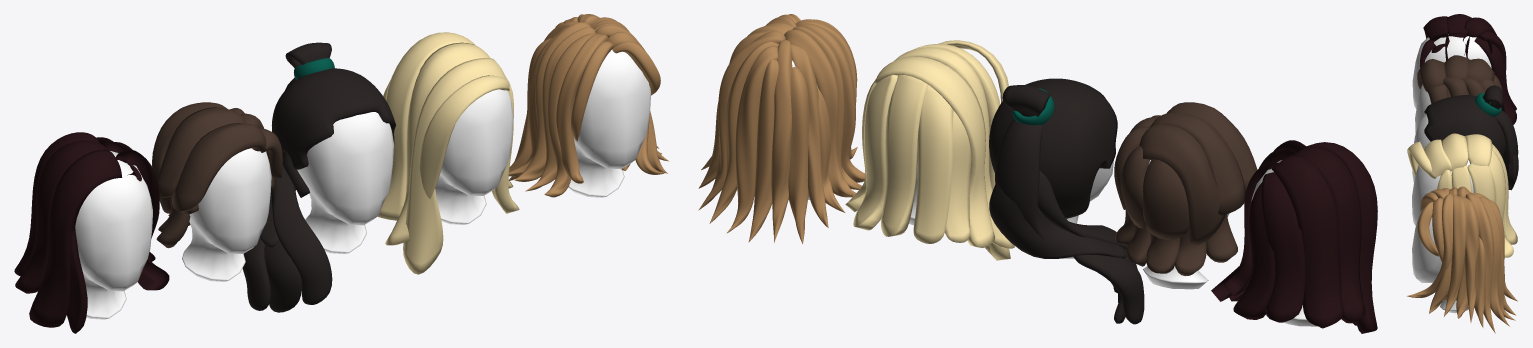
The model's file is haircut.glb.
The picture shows the model from 3 angles, left to right: view 1: azimuth 30°, elevation 25°; view 2: azimuth 150°, elevation 25°; view 3: azimuth 270°, elevation 25°; orthographic projection. The views are drawn at different scales.
Visible parts, largest first — view 1: Sally_head.003, Sally_head.001, Sally_head.002, Head1 Dummy, Sally_head.004, Gabriela Ekaireb_Hair, Head2_HairBand01, KW_HairBand01, KW_HairBand05, GE_HairBand05, CH_HairBand01, KW_HairBand03 (+24 smaller); view 2: Gabriela Ekaireb_Hair, Head2_HairBand06, KW_HairBand05, KW_HairBand09, KW_HairBand10, CH_HairBand04, Head2_HairBand07, Head2_HairBand02, GE_HairBand03, GE_HairBand02, Head1_HairStrand.009, KW_HairBand08 (+36 smaller); view 3: Gabriela Ekaireb_Hair, Head1_HairStrand.006, Sally_head.001, Head1_HairStrand.007, Head1_HairStrand.008, Head1 Dummy, Head1_HairStrand.005, Head1_HairStrand.016, Head2_HairBand08, KW_HairBand08, Sally_head.004, Head1_HairStrand.015 (+38 smaller).
Part boxes in pixels (bbox=[...]): Sally_head.003: bbox=[297, 112, 393, 253]; Sally_head.001: bbox=[75, 151, 152, 319]; Sally_head.002: bbox=[182, 148, 271, 281]; Head1 Dummy: bbox=[568, 49, 650, 197]; Sally_head.004: bbox=[435, 89, 513, 224]; Gabriela Ekaireb_Hair: bbox=[271, 68, 395, 197]; Head2_HairBand01: bbox=[29, 149, 122, 327]; KW_HairBand01: bbox=[403, 58, 509, 274]; KW_HairBand05: bbox=[377, 32, 474, 220]; GE_HairBand05: bbox=[271, 166, 332, 304]; CH_HairBand01: bbox=[172, 123, 266, 211]; KW_HairBand03: bbox=[419, 75, 509, 198]; Gabriela Ekaireb_Hair: bbox=[989, 78, 1117, 218]; Head2_HairBand06: bbox=[1271, 155, 1343, 328]; KW_HairBand05: bbox=[874, 56, 994, 247]; KW_HairBand09: bbox=[881, 75, 928, 236]; KW_HairBand10: bbox=[913, 85, 953, 243]; CH_HairBand04: bbox=[1139, 124, 1225, 245]; Head2_HairBand07: bbox=[1261, 172, 1305, 322]; Head2_HairBand02: bbox=[1291, 147, 1365, 323]; GE_HairBand03: bbox=[989, 182, 1126, 258]; GE_HairBand02: bbox=[995, 119, 1044, 239]; Head1_HairStrand.009: bbox=[726, 46, 777, 233]; KW_HairBand08: bbox=[853, 75, 897, 230]; Gabriela Ekaireb_Hair: bbox=[1424, 95, 1506, 157]; Head1_HairStrand.006: bbox=[1444, 195, 1466, 316]; Sally_head.001: bbox=[1412, 34, 1491, 108]; Head1_HairStrand.007: bbox=[1461, 197, 1479, 322]; Head1_HairStrand.008: bbox=[1465, 193, 1495, 333]; Head1 Dummy: bbox=[1412, 208, 1468, 313]; Head1_HairStrand.005: bbox=[1407, 193, 1452, 297]; Head1_HairStrand.016: bbox=[1479, 197, 1509, 326]; Head2_HairBand08: bbox=[1474, 37, 1516, 124]; KW_HairBand08: bbox=[1489, 150, 1513, 257]; Sally_head.004: bbox=[1412, 160, 1473, 225]; Head1_HairStrand.015: bbox=[1474, 237, 1485, 327].
Size of the model in its own units: 322 by 111 by 70.32.
